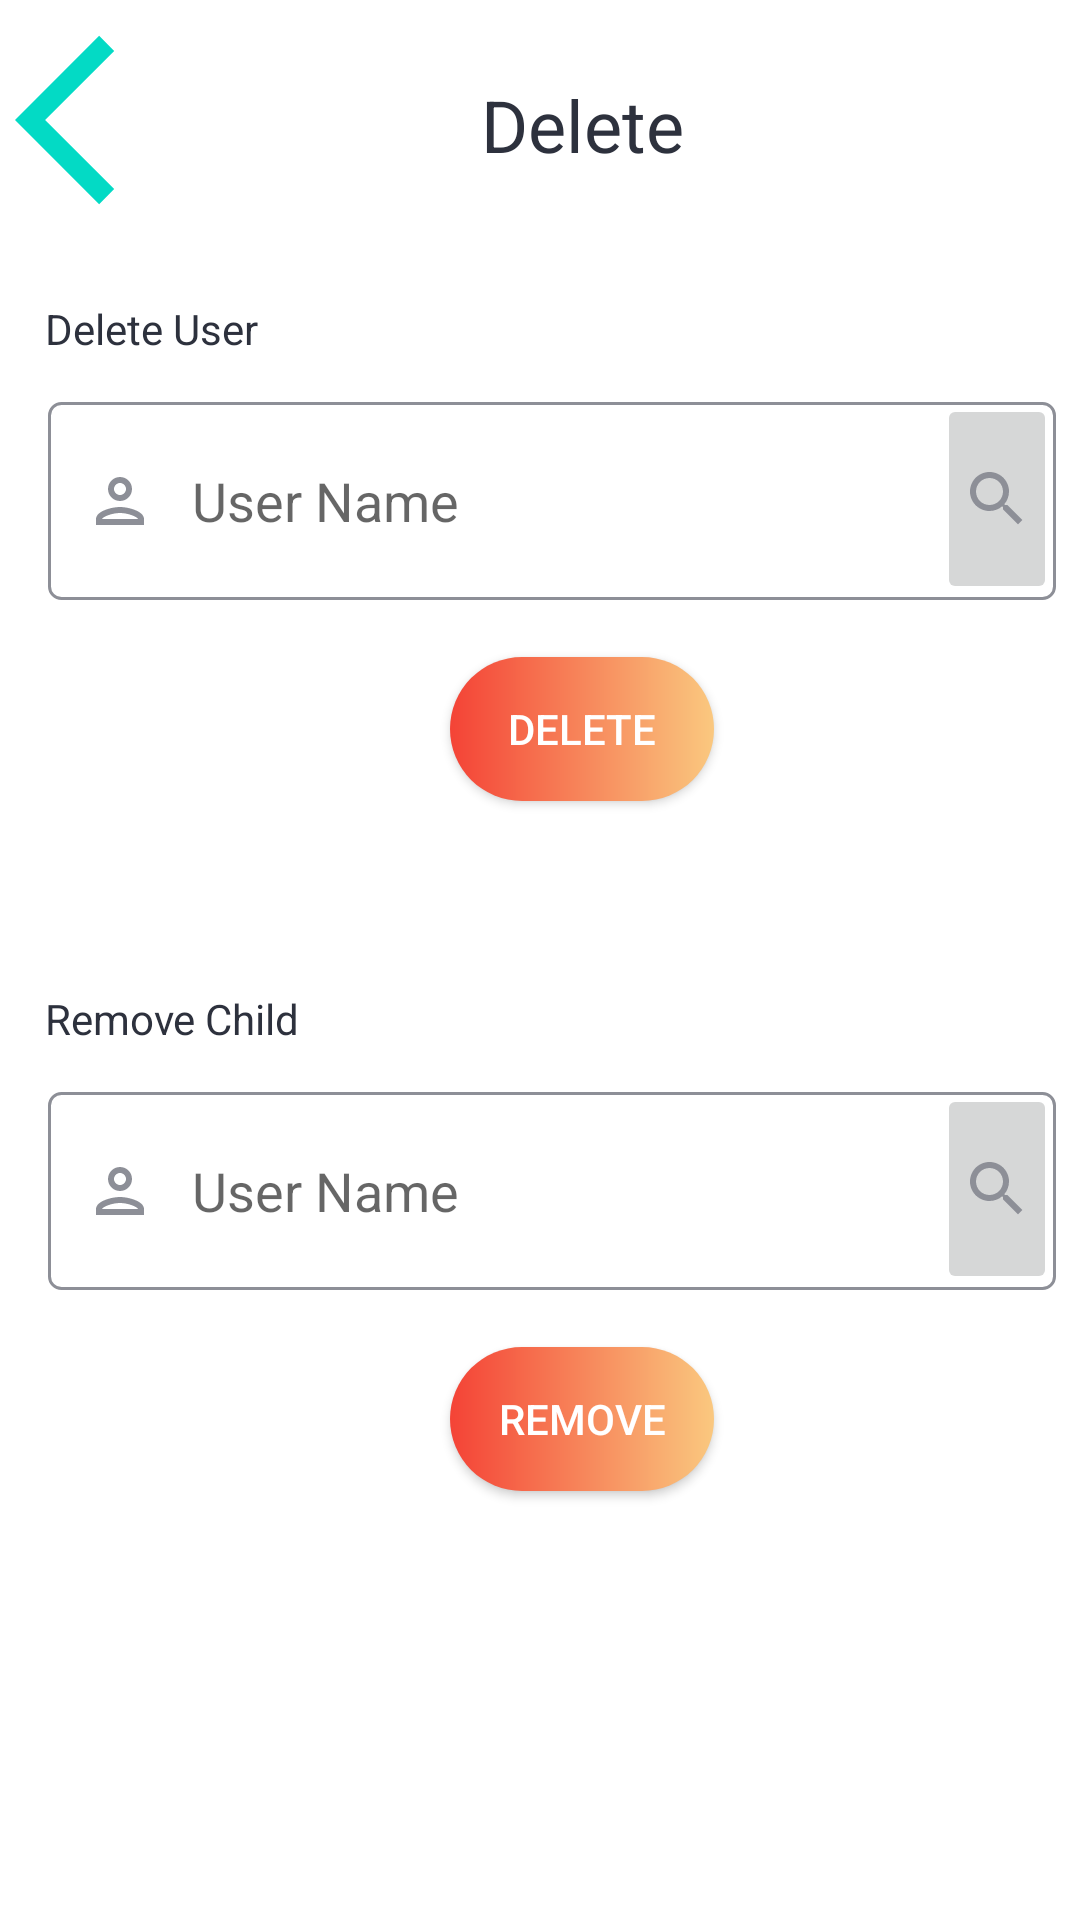

Icon bounding boxes for this 1080px×1920px phone screenshot, format detection(x1, y1, x2, y2):
back: detection(15, 36, 114, 204)
custom search: detection(949, 412, 1045, 586), detection(949, 1102, 1045, 1276)
